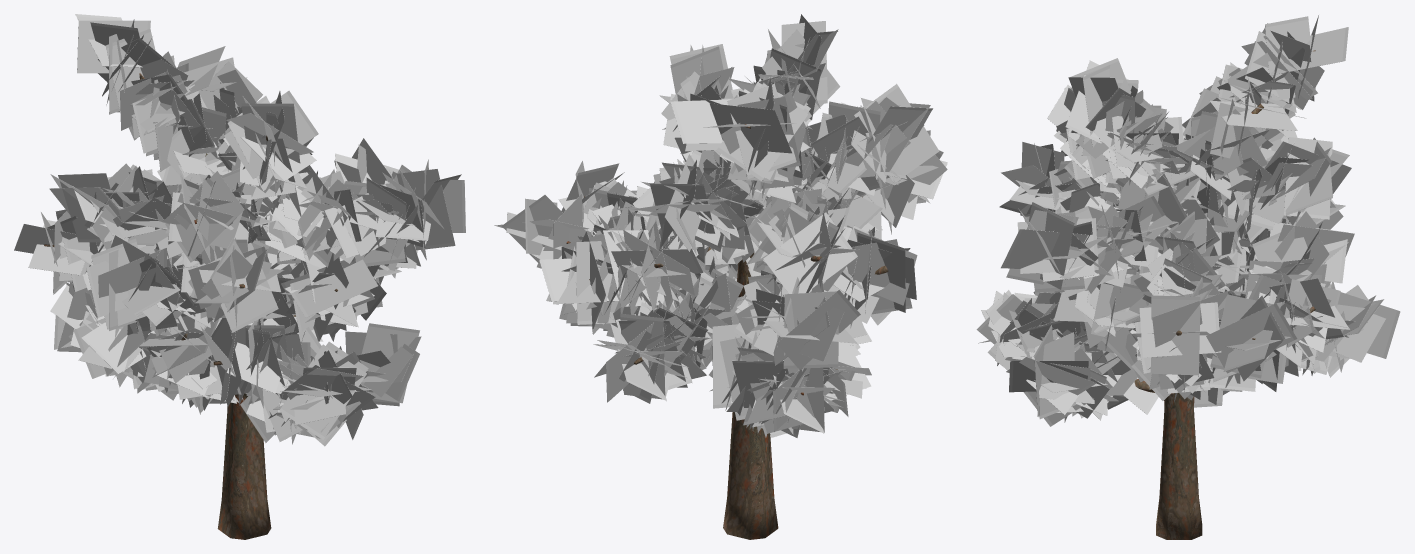
File: Tree(Solidified).fbx
3 renders of one model, left to right at view 1: azimuth 30°, elevation 25°; view 2: azimuth 150°, elevation 25°; view 3: azimuth 270°, elevation 25°, orthographic. The views are drawn at different scales.
Visible parts, largest first — view 1: Empty.003, Cube; view 2: Empty.003, Cube; view 3: Empty.003, Cube.
Part boxes in pixels (x1,y1,x2,y2): Empty.003: (14,14,465,446); Cube: (44,73,337,539); Empty.003: (494,14,947,437); Cube: (566,124,888,539); Empty.003: (976,14,1400,426); Cube: (1134,50,1315,539).
Size of the model in its own units: 1492 by 1893 by 1530.
